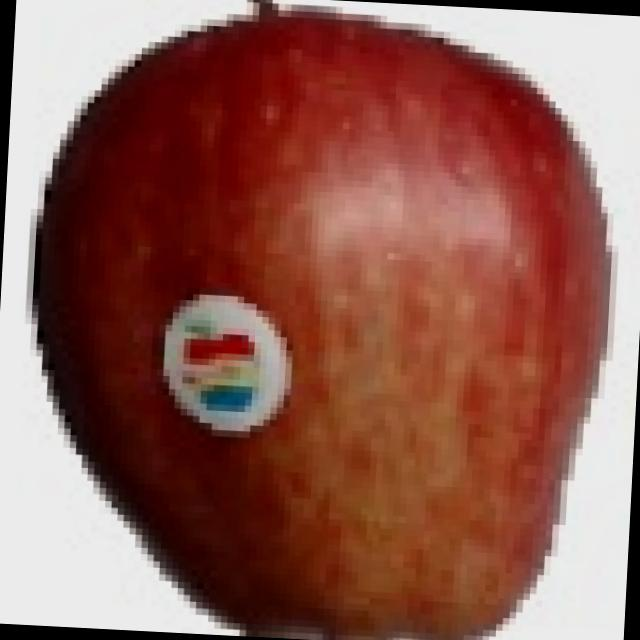apple: (16, 2, 629, 640)
